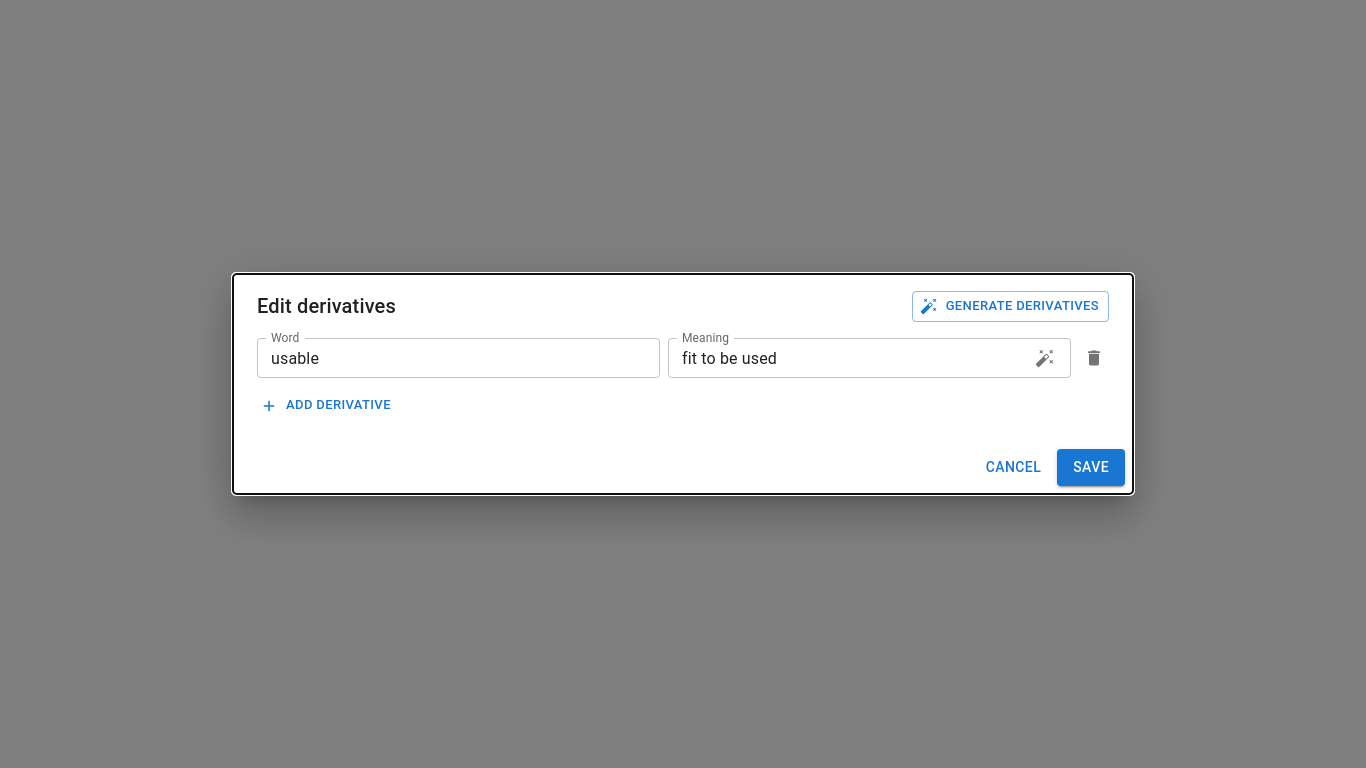
Test: DerivativeEditDialog › overwrites an existing meaning when the inline action succeeds
This screenshot has width=1366, height=768.
Click the button named "Generate meanings: usable" at [1045, 358], box [1030,343,1060,373]
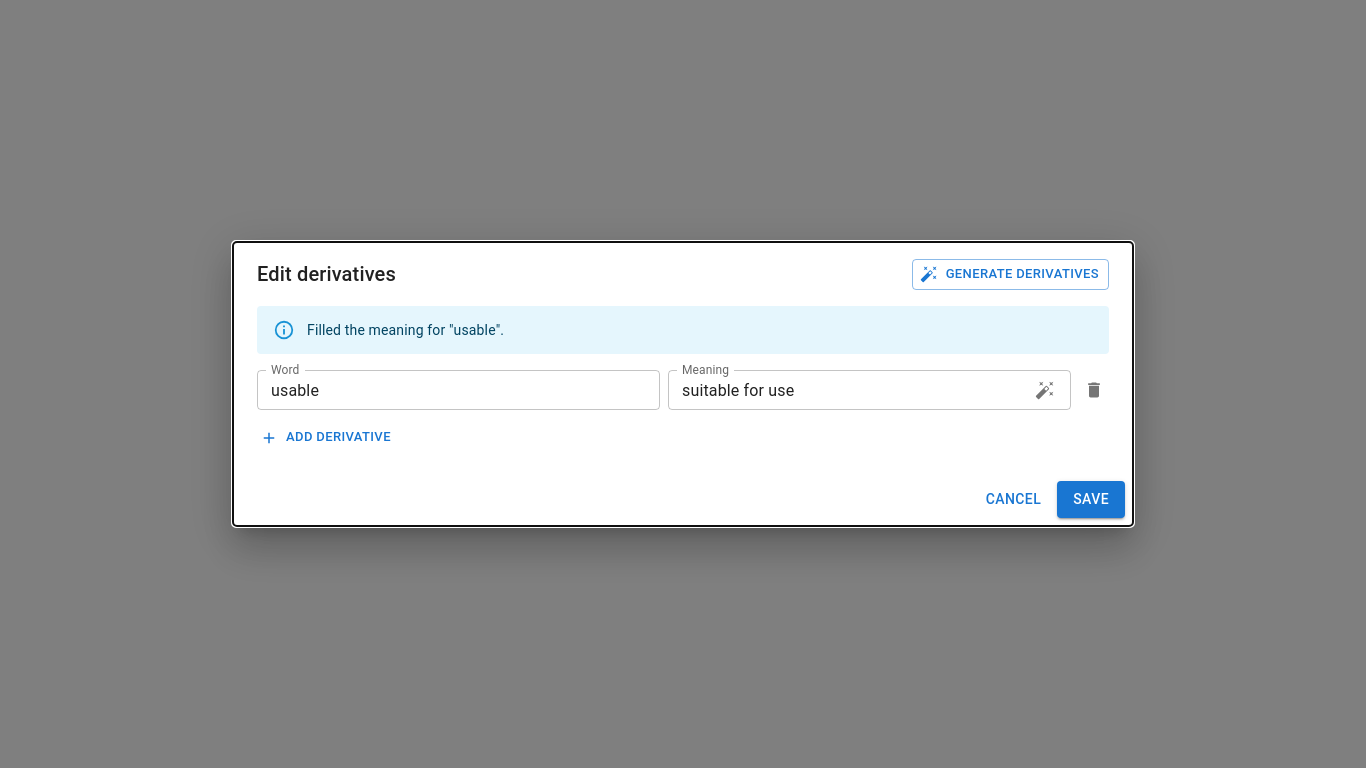
Expected: the text "Filled the meaning for \"usable\"." is shown, [307,322,504,338]
